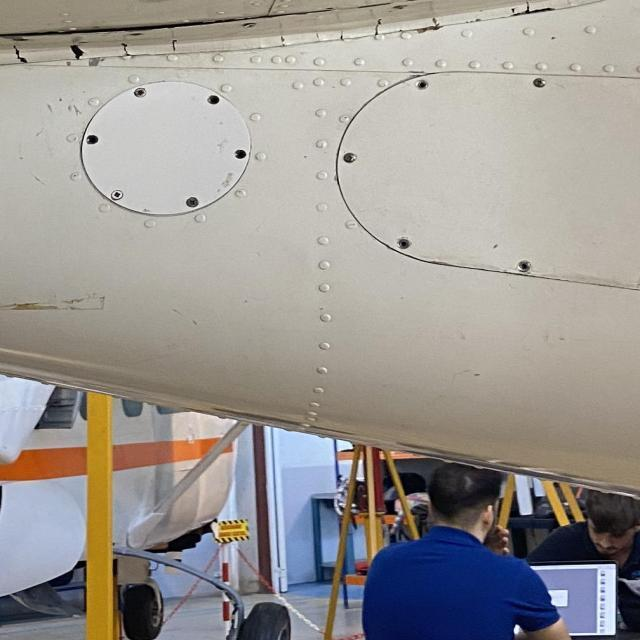Missing-head: (83, 132, 102, 147), (395, 237, 411, 251), (414, 78, 431, 91), (517, 260, 532, 273), (233, 148, 248, 160), (206, 94, 221, 105)
Paint-off: (84, 56, 109, 68), (63, 60, 75, 69)
